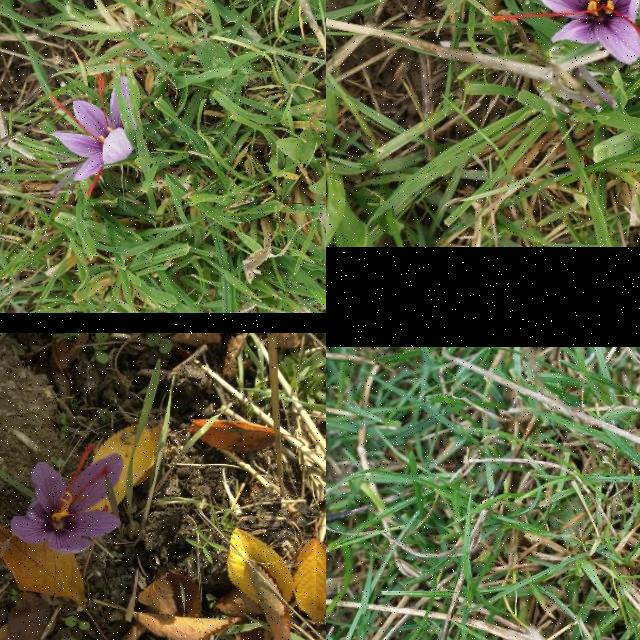flower: (11, 446, 123, 554), (50, 74, 134, 196), (490, 0, 640, 65)
